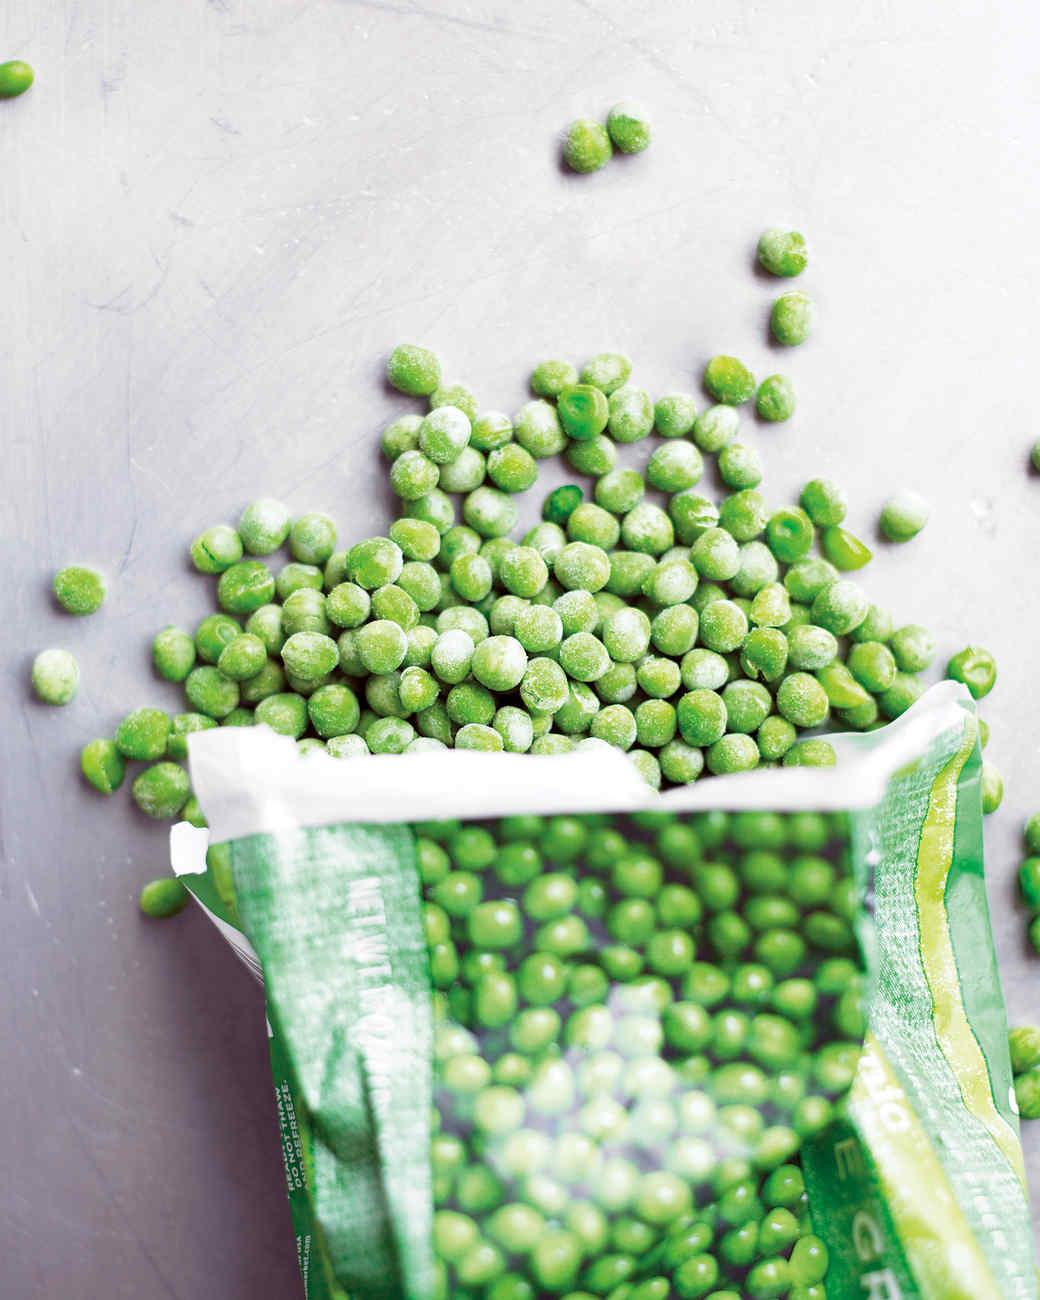peas: (35, 224, 1036, 1296), (410, 809, 869, 1297), (1008, 812, 1039, 1119), (561, 101, 651, 173), (131, 760, 189, 820), (1016, 812, 1039, 955), (115, 706, 171, 761), (944, 644, 996, 700), (30, 647, 79, 705), (562, 117, 611, 173), (53, 565, 104, 616), (703, 354, 753, 405), (755, 227, 807, 277), (79, 738, 124, 794), (768, 291, 811, 345), (606, 104, 649, 154), (878, 499, 926, 542), (753, 372, 794, 422), (139, 876, 186, 918), (1007, 1026, 1039, 1075), (0, 59, 33, 97)
